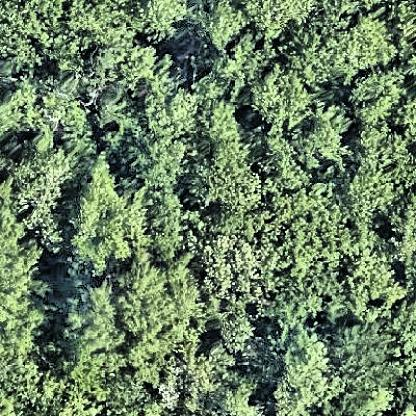tree-top: (62, 266, 201, 371), (63, 155, 156, 270), (347, 121, 416, 226), (282, 189, 355, 282), (268, 326, 343, 416), (1, 5, 87, 80), (1, 84, 93, 152), (1, 206, 37, 377), (202, 236, 281, 311), (335, 326, 406, 404), (193, 141, 267, 212), (146, 91, 200, 184), (310, 18, 383, 77), (295, 109, 356, 175), (21, 155, 66, 239), (250, 68, 312, 128), (348, 252, 397, 323), (166, 352, 229, 406), (149, 188, 191, 265), (73, 1, 138, 48), (351, 71, 401, 129), (97, 47, 166, 88), (135, 1, 193, 39), (250, 1, 313, 35), (204, 1, 250, 47), (113, 370, 159, 416)
